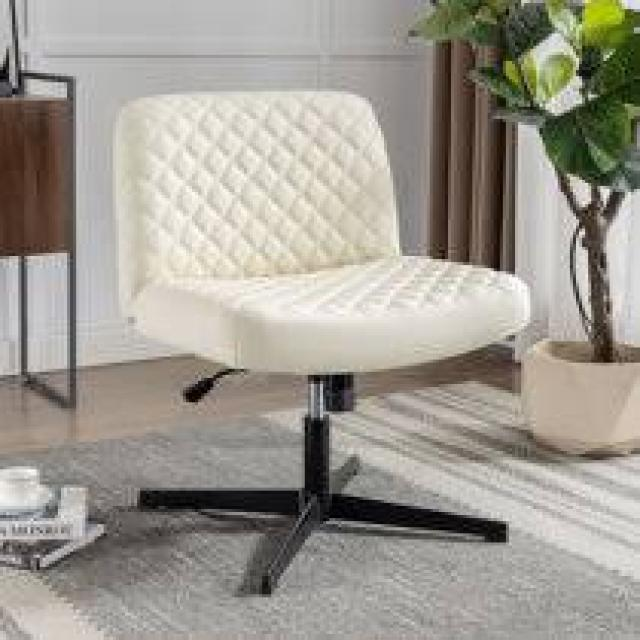chair: (43, 45, 567, 640)
